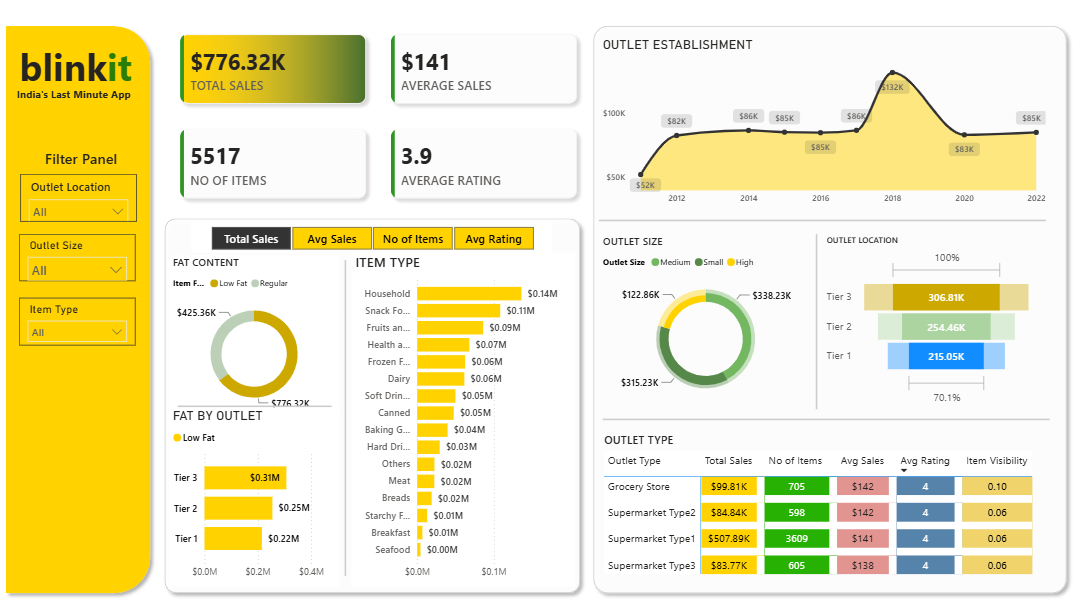

What the dashboard file says about the page in this screenshot:
{"tool":"powerbi","page":{"name":"Page 1","canvas":[1400,800],"ordinal":0},"visuals":[{"type":"shape","box":[0,25.7,204.3,750],"z":0},{"type":"textbox","box":[9,48,178.6,82.5],"z":1000},{"type":"textbox","box":[18,108.1,162.1,43.5],"z":2000},{"type":"cardVisual","fields":{"Data":["BlinkIT Grocery Data.Total Sales","BlinkIT Grocery Data.Avg Sales","BlinkIT Grocery Data.No of Items","BlinkIT Grocery Data.Avg Rating"]},"box":[204.1,16.5,570.3,270.2],"z":3000},{"type":"shape","box":[204.1,274.7,553.8,501.3],"z":4000},{"type":"donutChart","title":"FAT CONTENT","fields":{"Y":["BlinkIT Grocery Data.Avg Rating"],"Category":["BlinkIT Grocery Data.Item Fat Content"]},"box":[220,330,220,210],"z":5000},{"type":"slicer","fields":{"Values":["Metrics.Metrics"]},"box":[249.1,286.7,465.3,40.5],"z":6000},{"type":"clusteredBarChart","title":"FAT BY OUTLET","fields":{"Category":["BlinkIT Grocery Data.Outlet Location Type"],"Series":["BlinkIT Grocery Data.Item Fat Content"],"Y":["BlinkIT Grocery Data.Avg Rating"]},"box":[220,527.5,220,230],"z":6002},{"type":"shape","box":[230,511.4,198.6,28.6],"z":6003},{"type":"shape","box":[404.3,337.1,84.3,407.1],"z":6004},{"type":"barChart","title":"ITEM TYPE","fields":{"Category":["BlinkIT Grocery Data.Item Type"],"Y":["BlinkIT Grocery Data.Avg Rating"]},"box":[454.2,327.5,289.2,430],"z":6005},{"type":"shape","box":[758.3,25,628.3,750],"z":6006},{"type":"lineChart","title":"OUTLET ESTABLISHMENT","fields":{"Y":["BlinkIT Grocery Data.Total Sales"],"Category":["BlinkIT Grocery Data.Outlet Establishment Year"]},"box":[774.3,48.6,581.4,225.7],"z":6007},{"type":"donutChart","title":"OUTLET SIZE","fields":{"Y":["BlinkIT Grocery Data.Total Sales"],"Category":["BlinkIT Grocery Data.Outlet Size"]},"box":[774.3,302.9,275.7,225.7],"z":6008},{"type":"shape","box":[774.3,270,577.1,32.9],"z":6009},{"type":"shape","box":[1013.3,303.3,84,226],"z":6010},{"type":"funnel","title":"OUTLET LOCATION","fields":{"Y":["Sum(BlinkIT Grocery Data.Sales)"],"Category":["BlinkIT Grocery Data.Outlet Location Type"]},"box":[1062.9,302.9,275.7,225.7],"z":6011},{"type":"shape","box":[778.3,525,576.7,33.3],"z":6012},{"type":"pivotTable","title":"OUTLET TYPE","fields":{"Rows":["BlinkIT Grocery Data.Outlet Type"],"Values":["BlinkIT Grocery Data.Total Sales","BlinkIT Grocery Data.No of Items","BlinkIT Grocery Data.Avg Sales","BlinkIT Grocery Data.Avg Rating","Avg(BlinkIT Grocery Data.Item Visibility)"]},"box":[775,558.3,583.3,200],"z":6013},{"type":"slicer","fields":{"Values":["BlinkIT Grocery Data.Outlet Location Type"]},"box":[26.7,225,150,61.7],"z":6014},{"type":"slicer","fields":{"Values":["BlinkIT Grocery Data.Outlet Size"]},"box":[26.2,303.8,150,61],"z":6017},{"type":"slicer","fields":{"Values":["BlinkIT Grocery Data.Item Type"]},"box":[25.7,385.7,150,61.4],"z":6018},{"type":"textbox","box":[27.1,188.6,157.1,37.1],"z":6019}]}

Visuals, with their boxes in screenshot pixels (x1, y1, x2, y2), scaled from the page's 1400x800 canvas onto the 1083x615 screenshot:
shape: [0,20,158,596]
textbox: [7,37,145,100]
textbox: [14,83,139,117]
cardVisual - BlinkIT Grocery Data.Total Sales x BlinkIT Grocery Data.Avg Sales: [158,13,599,220]
shape: [158,211,586,597]
"FAT CONTENT" donutChart: [170,254,340,415]
slicer - Metrics.Metrics: [193,220,553,252]
"FAT BY OUTLET" clusteredBarChart: [170,406,340,582]
shape: [178,393,332,415]
shape: [313,259,378,572]
"ITEM TYPE" barChart: [351,252,575,582]
shape: [587,19,1073,596]
"OUTLET ESTABLISHMENT" lineChart: [599,37,1049,211]
"OUTLET SIZE" donutChart: [599,233,812,406]
shape: [599,208,1045,233]
shape: [784,233,849,407]
"OUTLET LOCATION" funnel: [822,233,1036,406]
shape: [602,404,1048,429]
"OUTLET TYPE" pivotTable: [600,429,1051,583]
slicer - BlinkIT Grocery Data.Outlet Location Type: [21,173,137,220]
slicer - BlinkIT Grocery Data.Outlet Size: [20,234,136,280]
slicer - BlinkIT Grocery Data.Item Type: [20,297,136,344]
textbox: [21,145,142,174]
